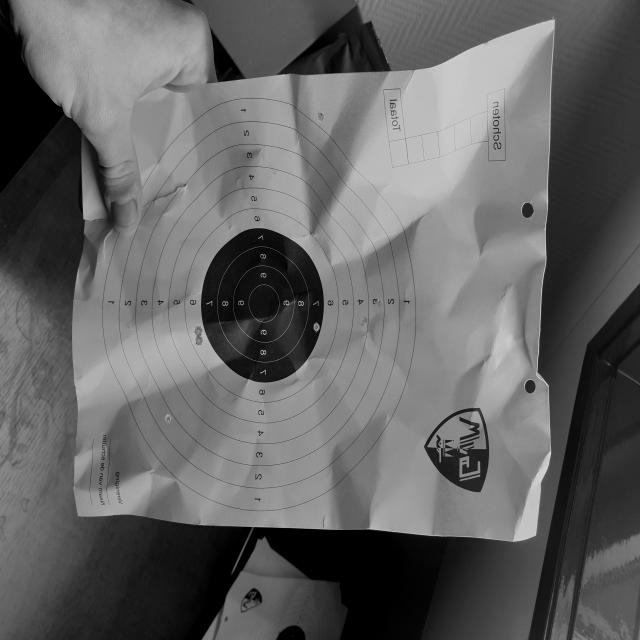0: (317, 111, 325, 123)
2: (164, 414, 172, 424)
3: (375, 297, 383, 307)
6: (192, 324, 204, 336), (192, 336, 205, 347)
7: (313, 322, 320, 332)
Target: (102, 91, 416, 513)
black_contour: (200, 228, 324, 383)
